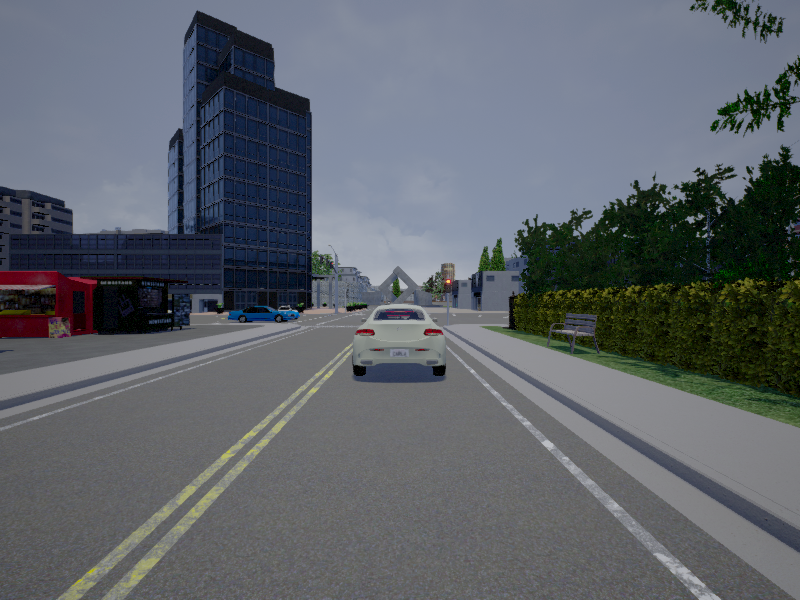Benign: (352, 305, 452, 382), (228, 305, 298, 322)
